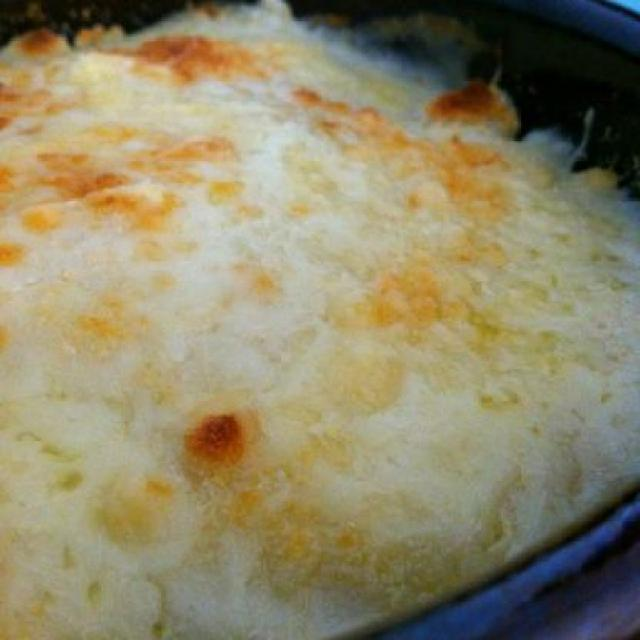Lasagna: (20, 17, 598, 560)
